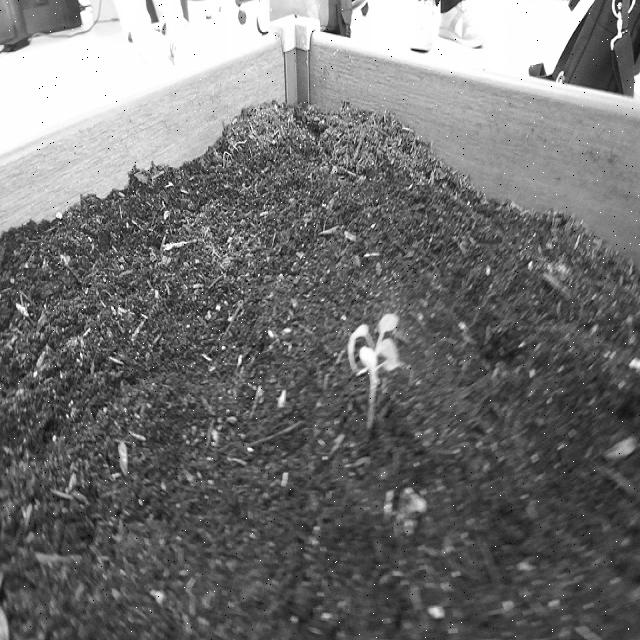Healthy: (330, 282, 410, 454)
